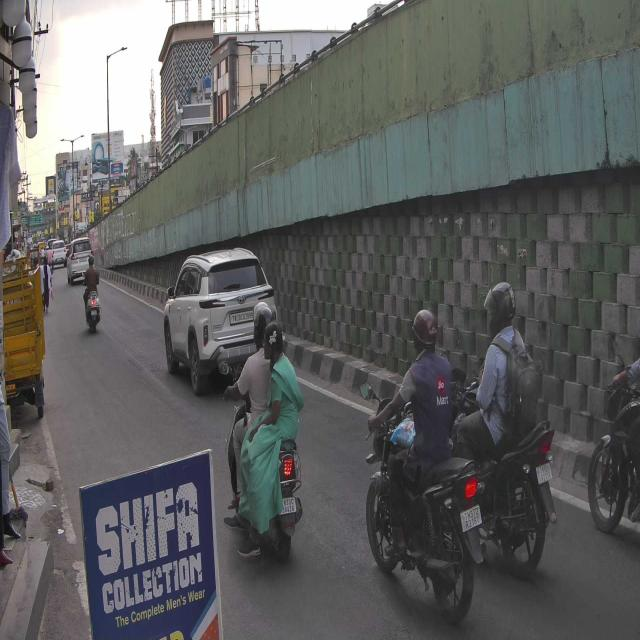double_rider: (222, 301, 304, 580)
single_rider: (362, 305, 488, 619)
